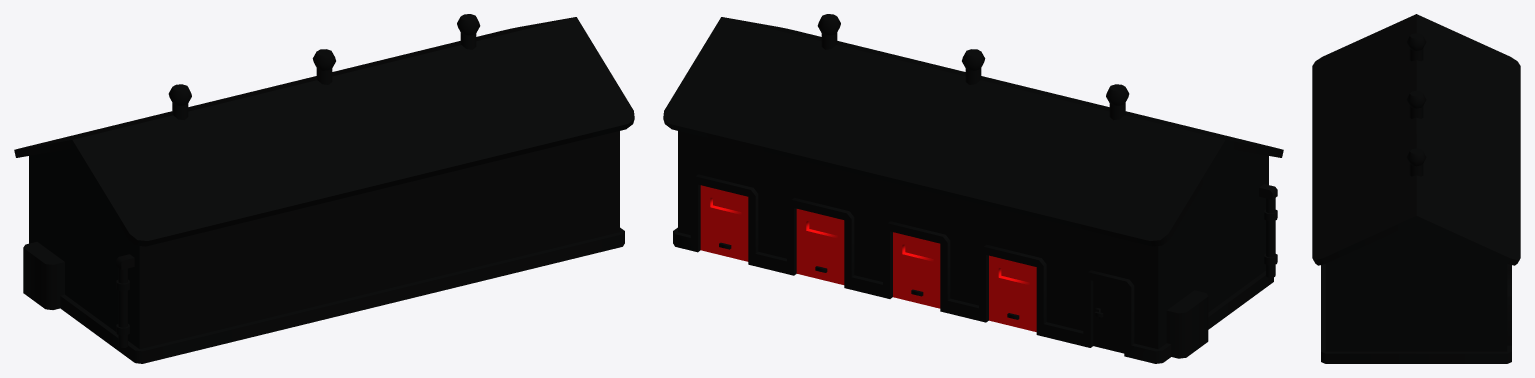
File: building-s.glb
3 renders of one model, left to right at view 1: azimuth 30°, elevation 25°; view 2: azimuth 150°, elevation 25°; view 3: azimuth 270°, elevation 25°, orthographic. The views are drawn at different scales.
Visible parts, largest first — view 1: building-s; view 2: building-s; view 3: building-s.
Part boxes in pixels (x1=…): building-s: x1=14, y1=14, x2=634, y2=363; building-s: x1=663, y1=14, x2=1283, y2=363; building-s: x1=1312, y1=14, x2=1520, y2=363.
Bounding box in the file's own units: 2.12 × 0.8368 × 0.9165.
1 material, 1 textured.
